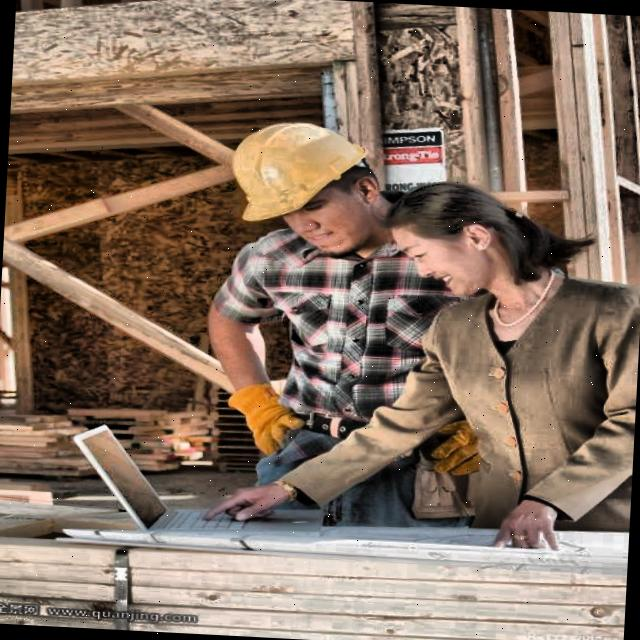helmet: (210, 105, 404, 262)
